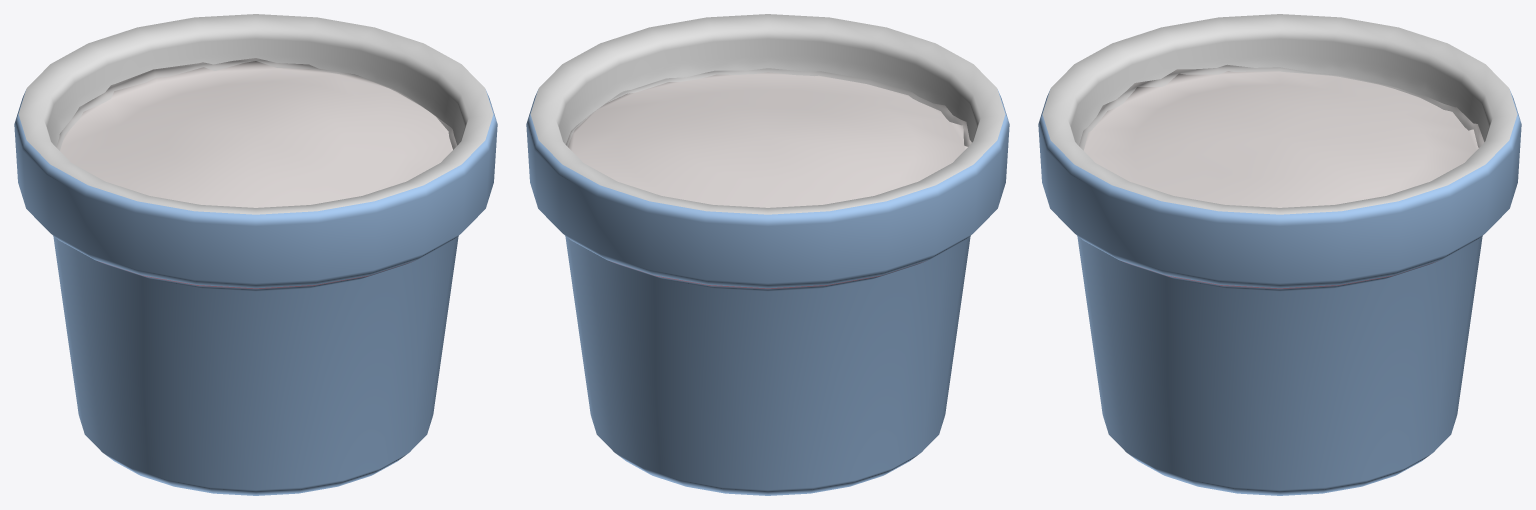
Rendered from pi_cocotteplate04_yogurt.gltf.
3 renders of one model, left to right at view 1: azimuth 30°, elevation 25°; view 2: azimuth 150°, elevation 25°; view 3: azimuth 270°, elevation 25°, orthographic.
Parts seen in each view (by area): view 1: um_pi_cocotteplate04_yogurt_model_pi_cocotteplate04_yogurt_m (×3); view 2: um_pi_cocotteplate04_yogurt_model_pi_cocotteplate04_yogurt_m (×3); view 3: um_pi_cocotteplate04_yogurt_model_pi_cocotteplate04_yogurt_m (×3).
Part boxes in pixels (x1,y1,x2,y2): um_pi_cocotteplate04_yogurt_model_pi_cocotteplate04_yogurt_m (×3): [14, 14, 497, 495]; um_pi_cocotteplate04_yogurt_model_pi_cocotteplate04_yogurt_m (×3): [526, 14, 1009, 495]; um_pi_cocotteplate04_yogurt_model_pi_cocotteplate04_yogurt_m (×3): [1038, 14, 1521, 495].
Size of the model in its own units: 0.0797 by 0.057 by 0.0797.
Materials: 3 (3 with a texture image).
